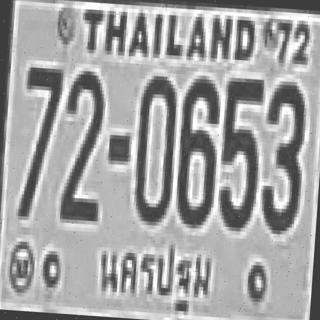N00: (130, 71, 178, 222)
N02: (58, 68, 106, 219)
N03: (258, 76, 306, 232)
N05: (216, 74, 262, 228)
N06: (172, 74, 220, 226)
N07: (16, 63, 62, 218), (19, 63, 62, 171)
P28: (90, 232, 218, 318)
